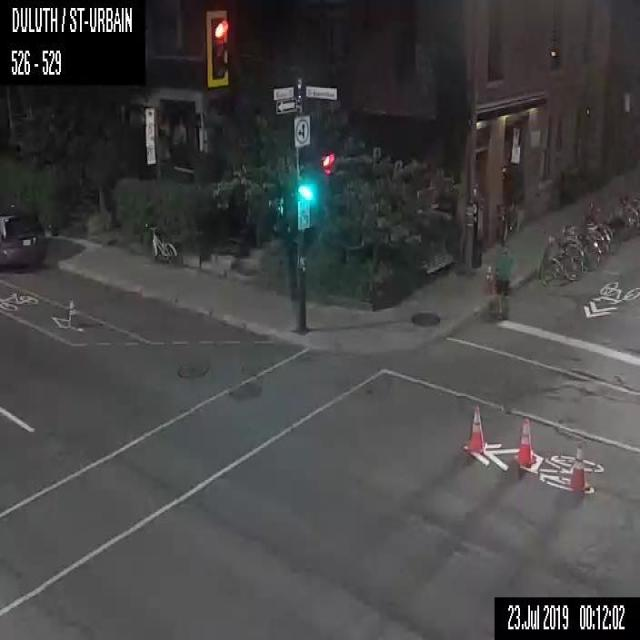construction: (516, 416, 534, 464), (467, 403, 485, 449), (569, 444, 586, 491)
pedestrian: (493, 246, 512, 318)
vehicle: (0, 208, 48, 271)
